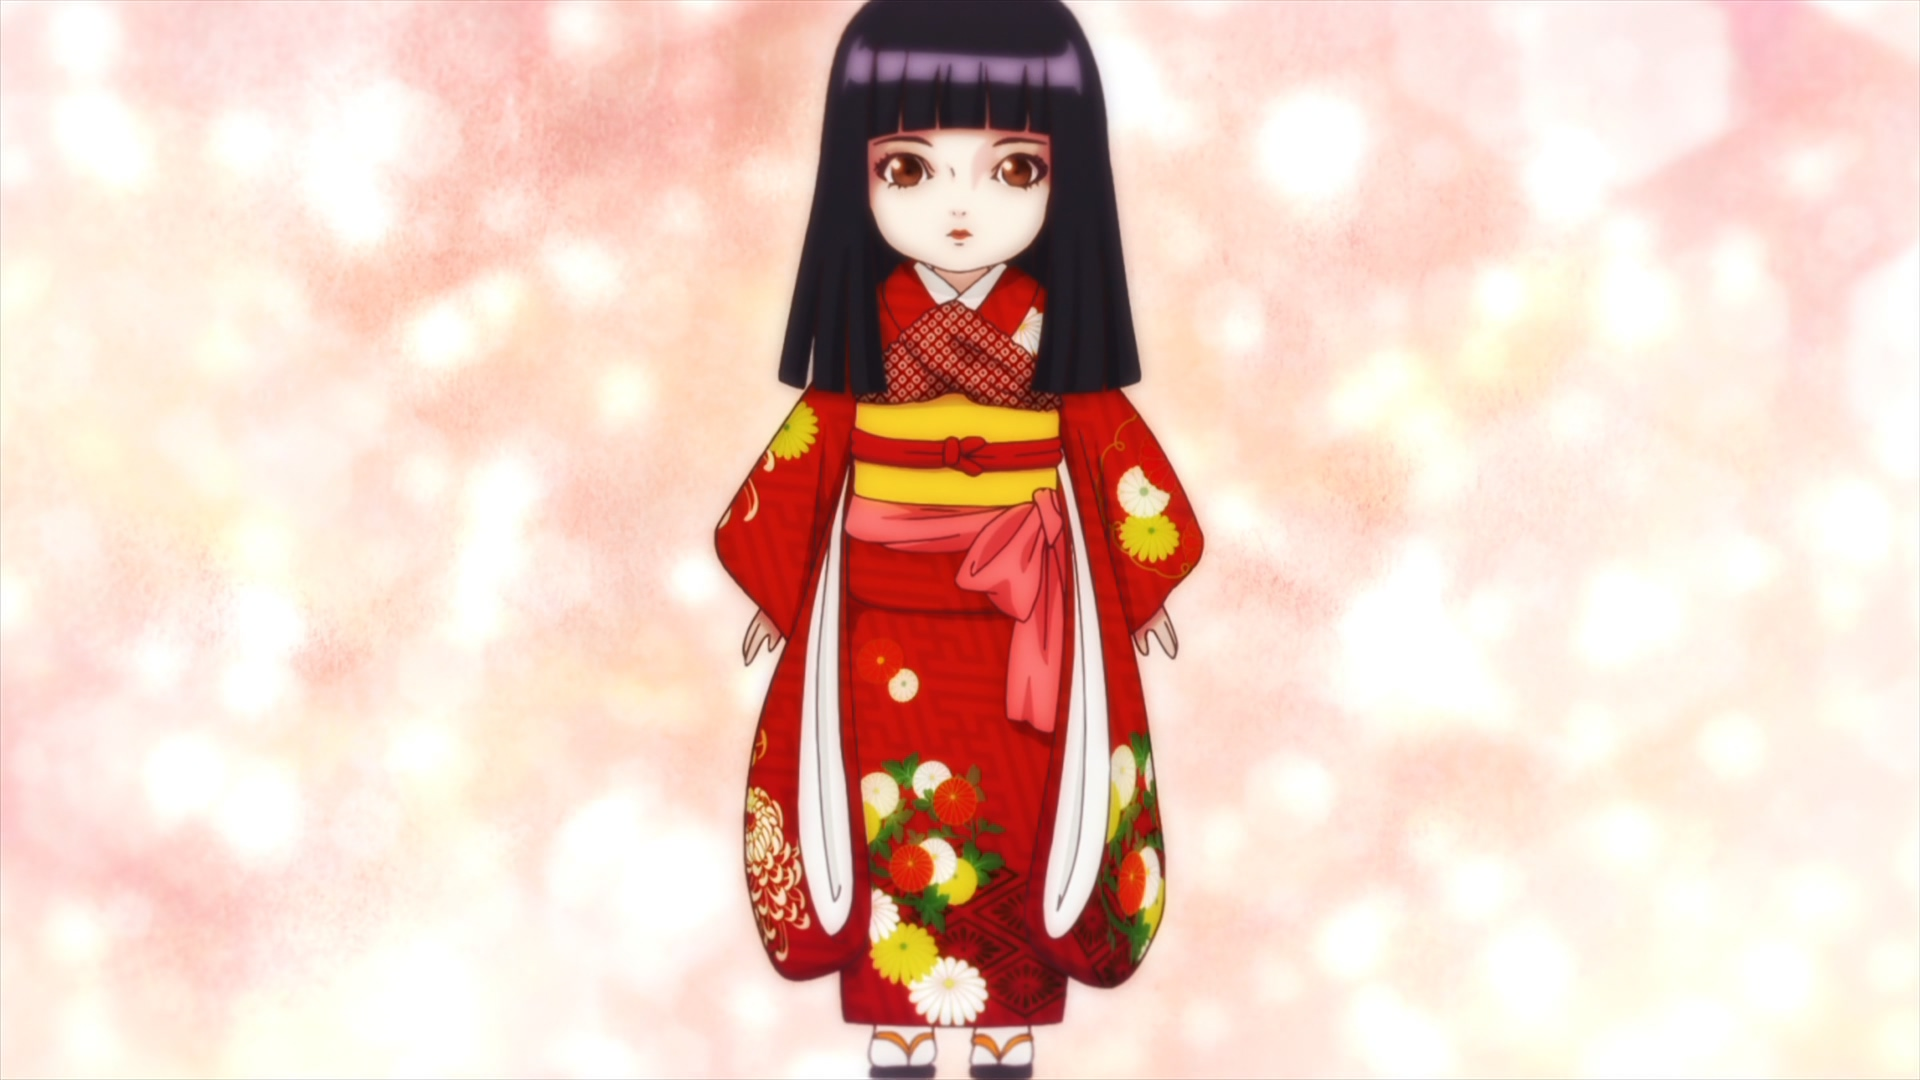阿菊: (711, 1, 1204, 1080)
